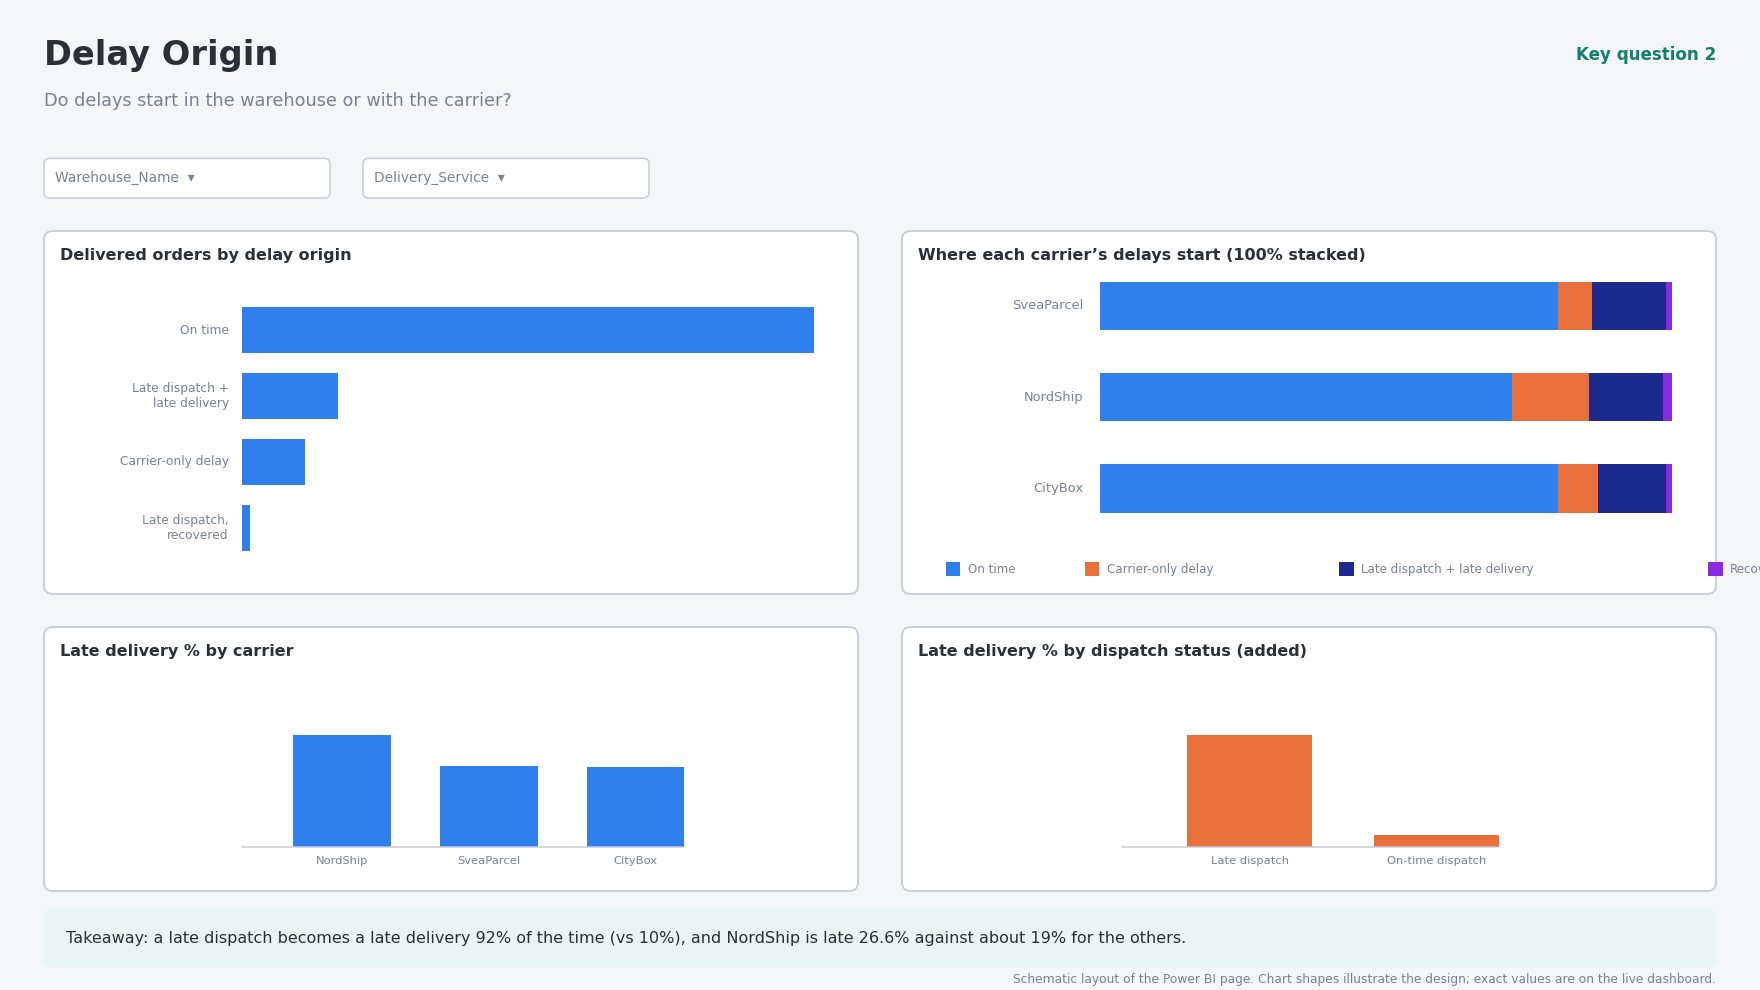

What the dashboard file says about the page in this screenshot:
{"tool":"powerbi","page":{"name":"Delay Origin","canvas":[1920,1080],"ordinal":1},"visuals":[{"type":"columnChart","title":"Delivered orders by delay origin","fields":{"Category":["T_Fulfilment.Delay Origin"],"Y":["Measures (2).Shipped Orders"]},"box":[45,180,617.5,862.5],"z":0},{"type":"clusteredColumnChart","title":"Late delivery % by carrier","fields":{"Category":["T_Fulfilment.Carrier"],"Y":["Measures (2).Late Delivery %"]},"box":[682.5,180,592.5,415],"z":1000},{"type":"hundredPercentStackedBarChart","title":"Shipped orders by carrier and delay origin","fields":{"Category":["T_Fulfilment.Carrier"],"Series":["T_Fulfilment.Delay Origin"],"Y":["Measures (2).Shipped Orders"]},"box":[682.5,612.5,1197.5,432.5],"z":2000},{"type":"slicer","fields":{"Values":["T_Warehouses.Warehouse_Name"]},"box":[44.5,113,403.8,42.6],"z":3000},{"type":"slicer","fields":{"Values":["T_Orders.Delivery_Service"]},"box":[550,112.5,370,42.5],"z":4000},{"type":"columnChart","title":"Late delivery % by dispatch status","fields":{"Category":["T_Fulfilment.Dispatch Status"],"Y":["Measures (2).Late Delivery %"]},"box":[1302.5,180,577.5,412.5],"z":5000},{"type":"slicer","fields":{"Values":["Dim_Date.Month"]},"box":[980,113,900.3,42.6],"z":6000}]}

Visuals, with their boxes in screenshot pixels (x1, y1, x2, y2), scaled from the page's 1920x1080 canvas onto the 1760x990 screenshot:
"Delivered orders by delay origin" columnChart: [41, 165, 607, 956]
"Late delivery % by carrier" clusteredColumnChart: [626, 165, 1169, 545]
"Shipped orders by carrier and delay origin" hundredPercentStackedBarChart: [626, 561, 1723, 958]
slicer - T_Warehouses.Warehouse_Name: [41, 104, 411, 143]
slicer - T_Orders.Delivery_Service: [504, 103, 843, 142]
"Late delivery % by dispatch status" columnChart: [1194, 165, 1723, 543]
slicer - Dim_Date.Month: [898, 104, 1724, 143]
